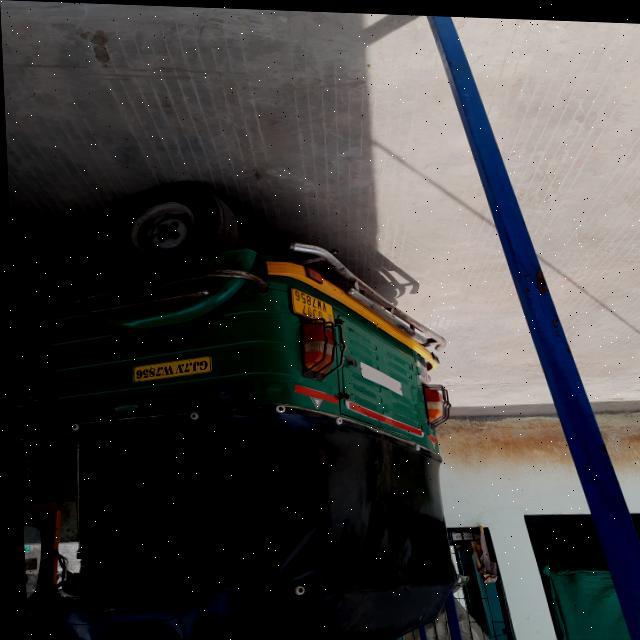plate: (126, 351, 211, 385), (286, 283, 334, 325)
